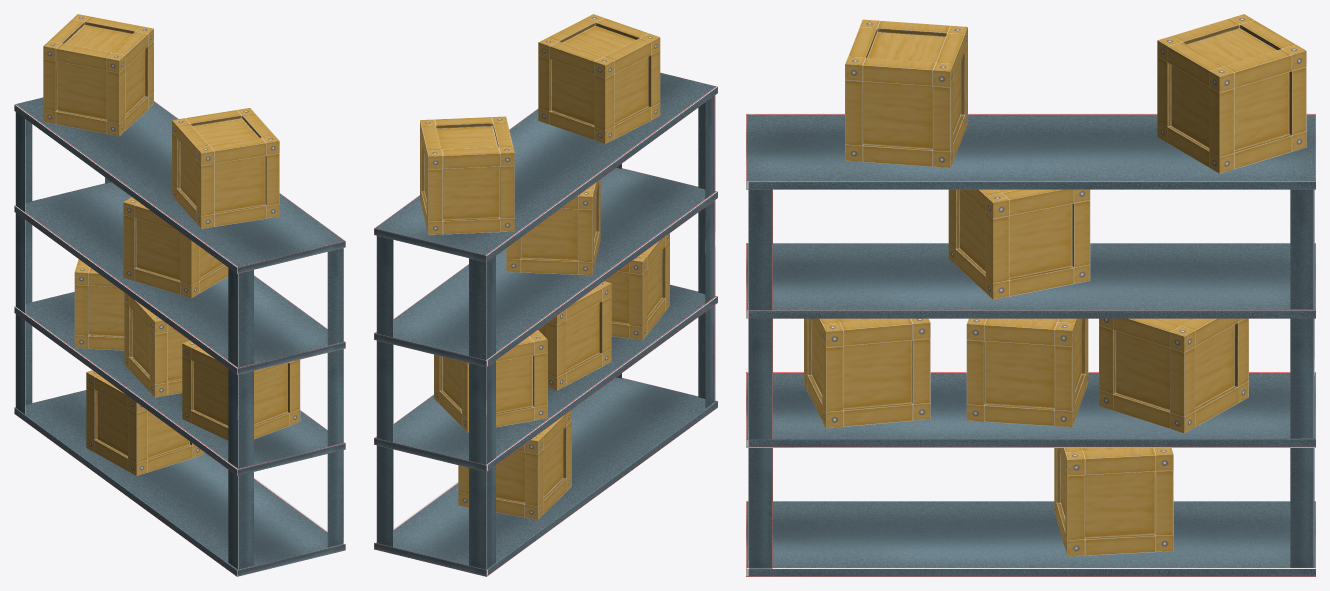
File: tana_kibako.fbx
The picture shows the model from 3 angles, left to right: view 1: azimuth 30°, elevation 25°; view 2: azimuth 150°, elevation 25°; view 3: azimuth 270°, elevation 25°; orthographic projection. The views are drawn at different scales.
Parts seen in each view (by area): view 1: Wall001, Box003, Box004, Box006, Box001, Box002, Box007, Box005; view 2: Wall001, Box004, Box003, Box005, Box001, Box002, Box007, Box006; view 3: Wall001, Box003, Box004, Box005, Box002, Box006, Box007, Box001.
Boxes of the visible parts, bbox=[...] form: Wall001: bbox=[14, 97, 345, 576]; Box003: bbox=[43, 14, 153, 136]; Box004: bbox=[172, 108, 279, 228]; Box006: bbox=[182, 340, 300, 440]; Box001: bbox=[86, 370, 203, 475]; Box002: bbox=[123, 197, 228, 298]; Box007: bbox=[124, 292, 189, 397]; Box005: bbox=[74, 259, 124, 350]; Wall001: bbox=[374, 72, 717, 576]; Box004: bbox=[538, 14, 660, 143]; Box003: bbox=[420, 116, 514, 234]; Box005: bbox=[434, 330, 547, 432]; Box001: bbox=[458, 410, 571, 519]; Box002: bbox=[506, 179, 600, 275]; Box007: bbox=[538, 281, 611, 390]; Box006: bbox=[604, 233, 669, 340]; Wall001: bbox=[746, 113, 1315, 576]; Box003: bbox=[1157, 14, 1306, 173]; Box004: bbox=[845, 19, 967, 168]; Box005: bbox=[1099, 318, 1248, 433]; Box002: bbox=[948, 189, 1090, 299]; Box006: bbox=[804, 318, 930, 428]; Box007: bbox=[966, 318, 1088, 427]; Box001: bbox=[1054, 448, 1173, 556].
Bounding box in the file's own units: 35.43 × 121 × 126.
